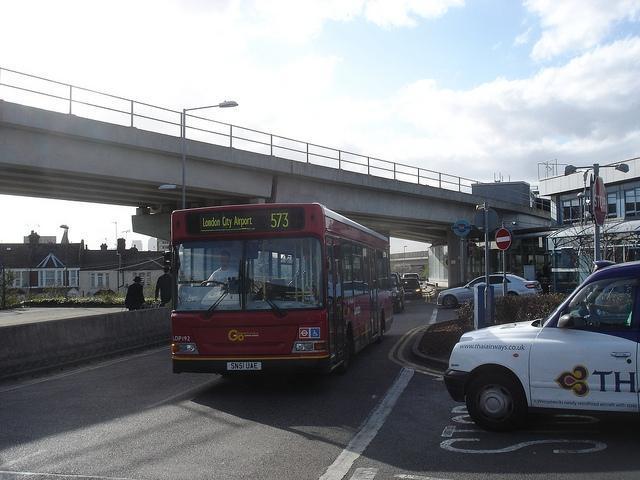bus: (170, 202, 396, 383)
car: (445, 257, 640, 432), (436, 273, 545, 313), (391, 272, 406, 312), (401, 278, 422, 300)
